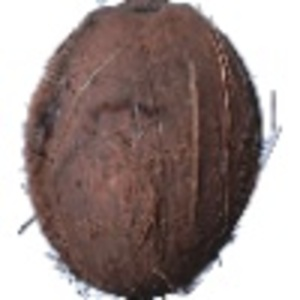coco: (19, 1, 280, 300)
